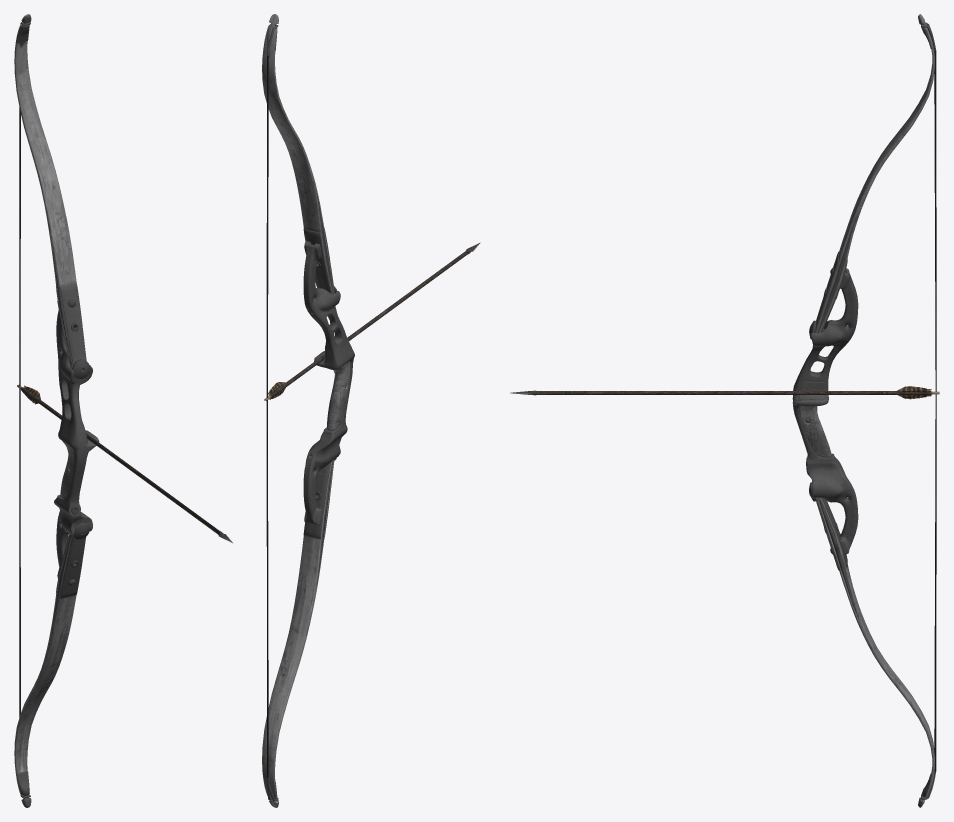
The model's file is Weapons_Bow01_LOD0.glb.
3 renders of one model, left to right at view 1: azimuth 30°, elevation 25°; view 2: azimuth 150°, elevation 25°; view 3: azimuth 270°, elevation 25°, orthographic.
Parts seen in each view (by area): view 1: Hoodie; view 2: Hoodie; view 3: Hoodie.
Boxes of the visible parts, box(x1,y1,x2,y2) form: Hoodie: box(14, 14, 232, 807); Hoodie: box(262, 14, 480, 807); Hoodie: box(510, 14, 939, 807).
Bounding box in the file's own units: 0.067 × 1.79 × 0.8803.
Materials: 1 (1 with a texture image).
